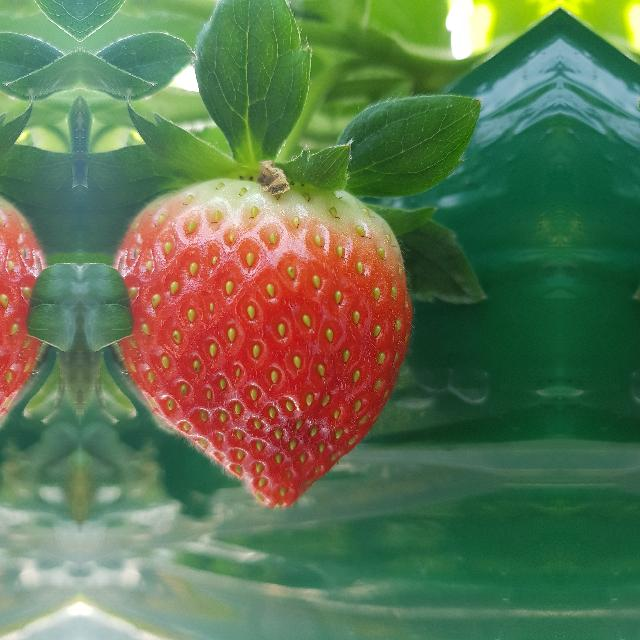Health_75: (111, 178, 415, 510)
